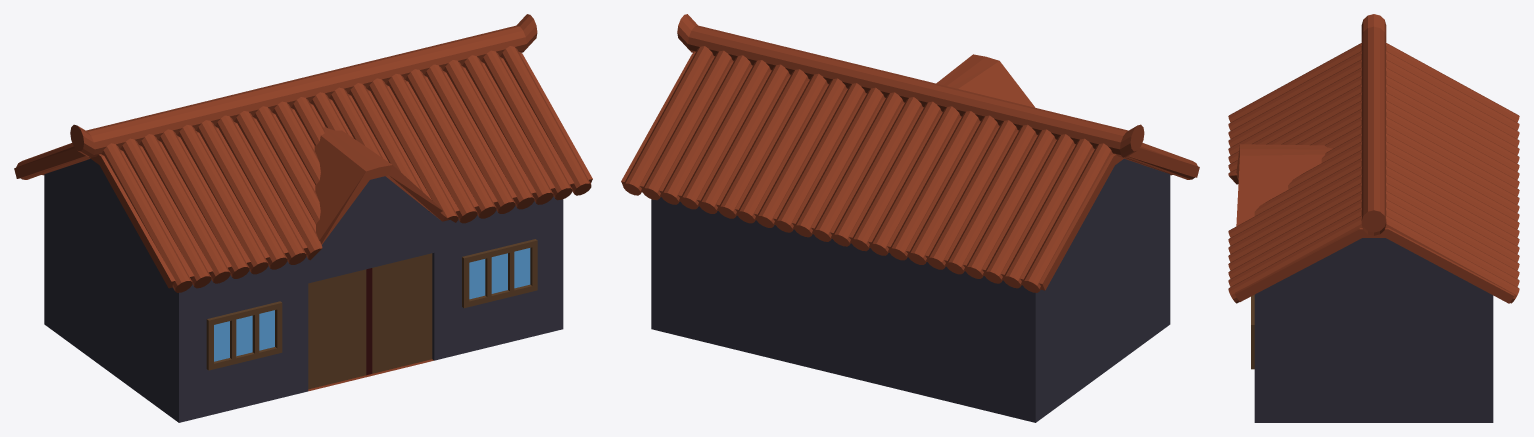
Rendered from CasaNorte.glb.
3 renders of one model, left to right at view 1: azimuth 30°, elevation 25°; view 2: azimuth 150°, elevation 25°; view 3: azimuth 270°, elevation 25°, orthographic. The views are drawn at different scales.
Visible parts, largest first — view 1: CASADELNORTE, Ventanas; view 2: CASADELNORTE; view 3: CASADELNORTE.
Boxes of the visible parts, x1,y1,x2,y2 form: CASADELNORTE: (14,14,592,422); Ventanas: (214,248,530,361); CASADELNORTE: (621,14,1199,422); CASADELNORTE: (1228,14,1519,422).
Bounding box in the file's own units: 11.65 × 6.3 × 7.31.
